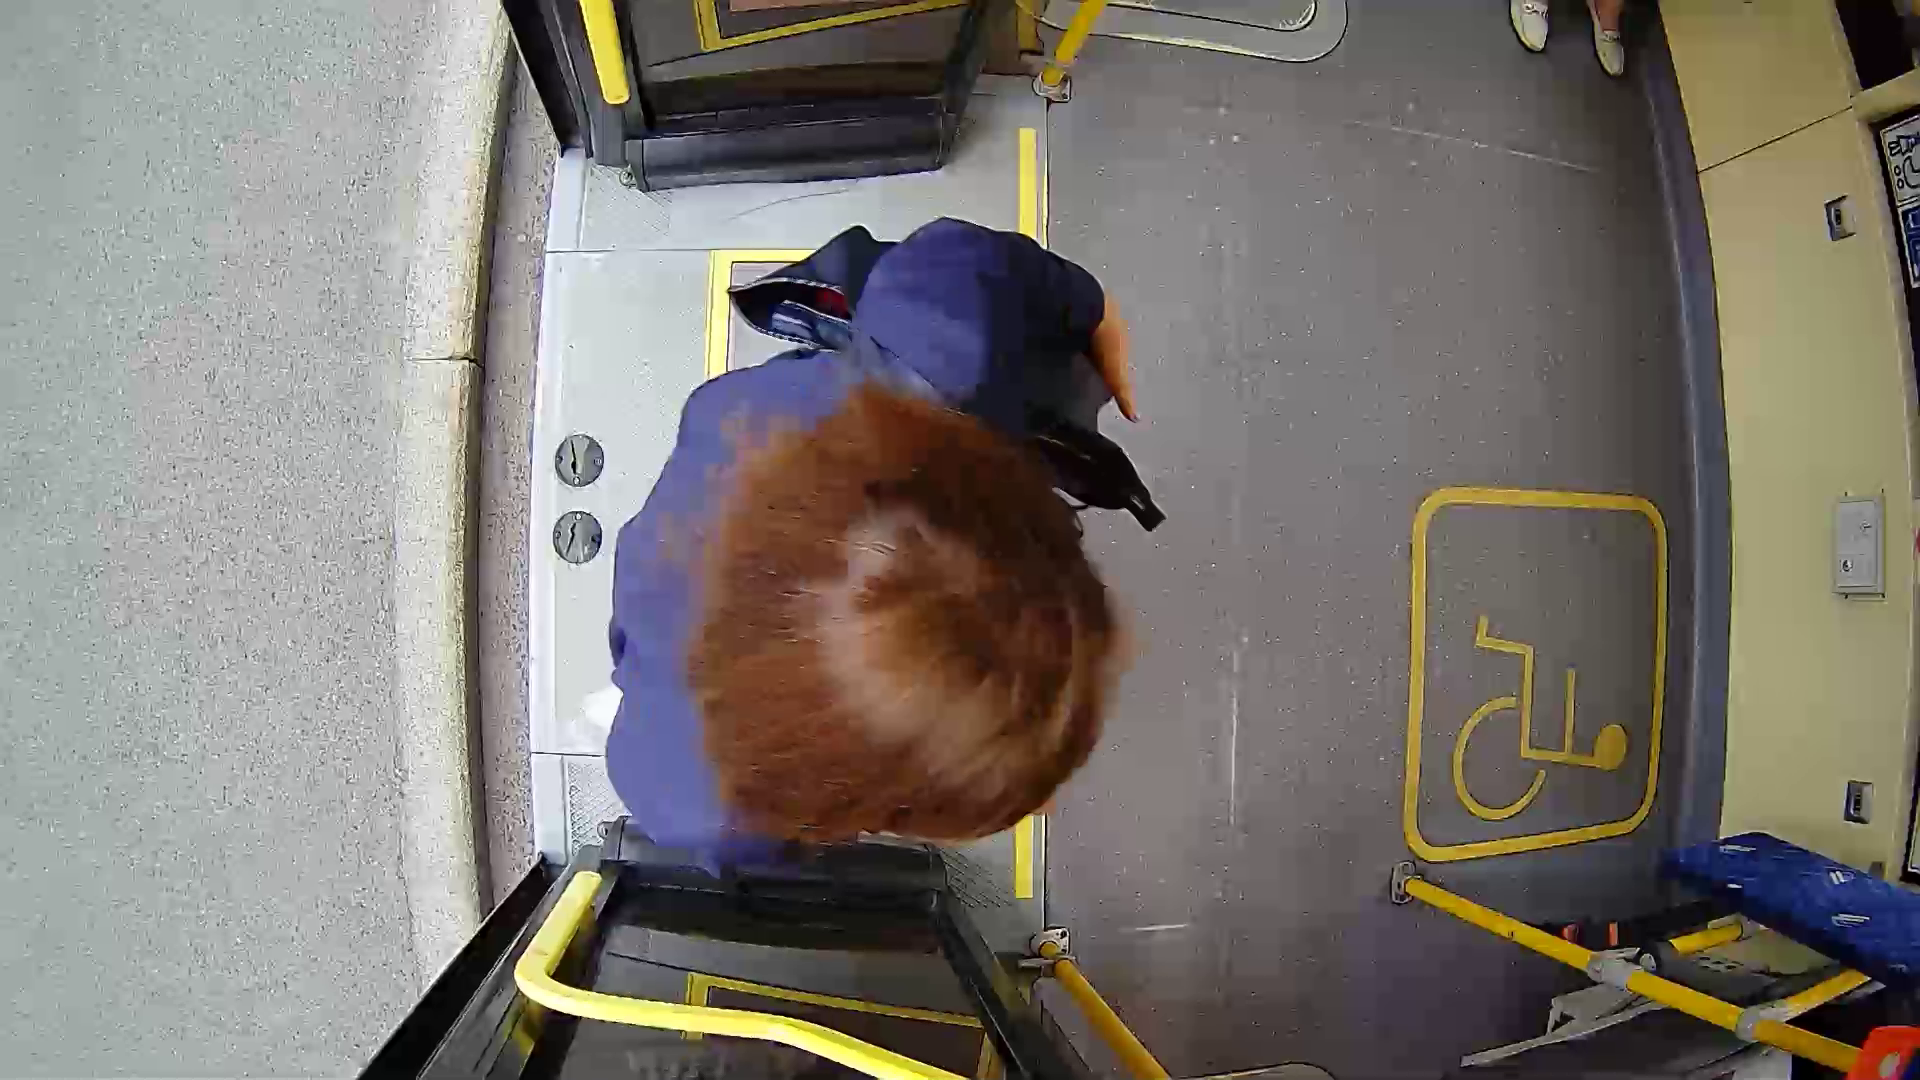person: (593, 197, 1251, 895)
